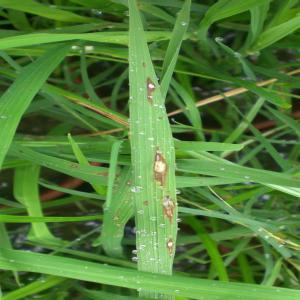Rice_Blast: (142, 147, 180, 190), (157, 190, 185, 226), (140, 70, 159, 104), (160, 233, 180, 253)
